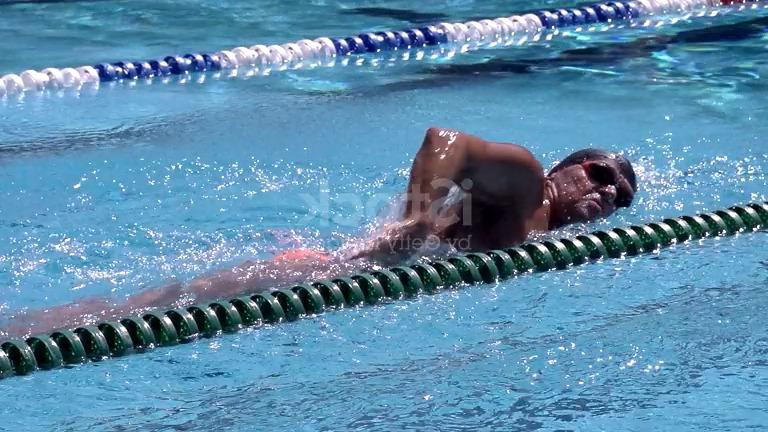Swimming: (4, 124, 640, 344)
